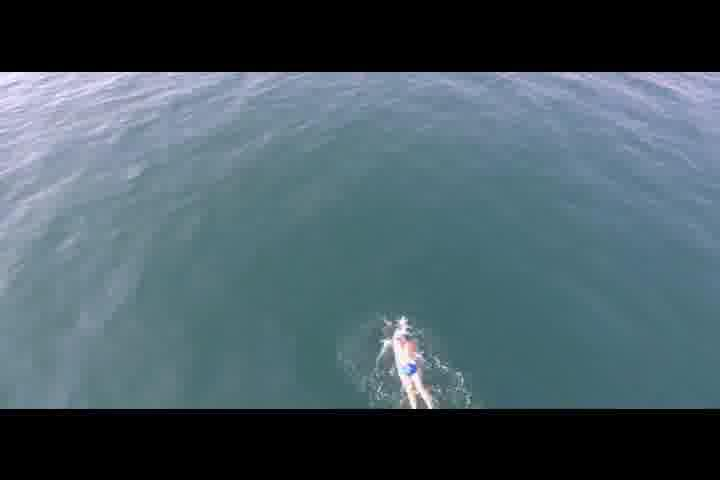human: (379, 322, 439, 406)
